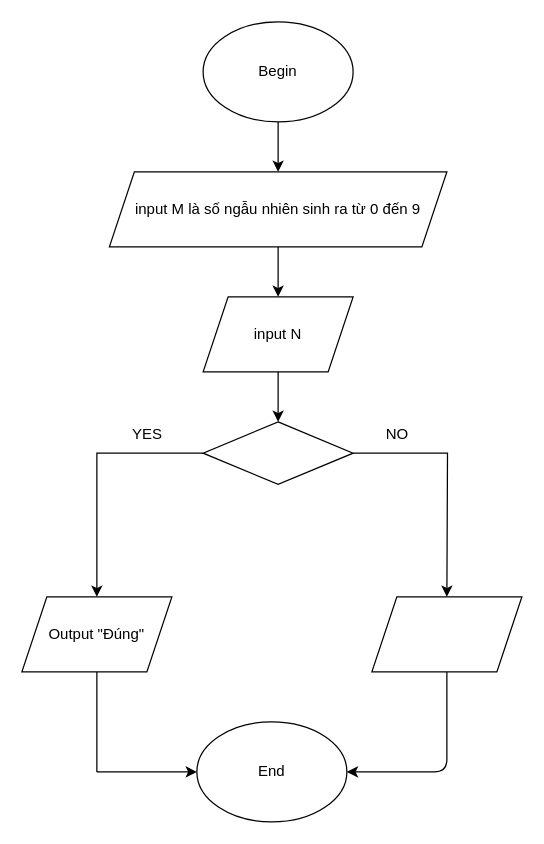
This 544x844 diagram has some shape labels left out. Here are the shapes that lost their labels. From the top down, the centre of each, then its label:
point (277, 452): N==M
point (446, 634): Output "Sai"
